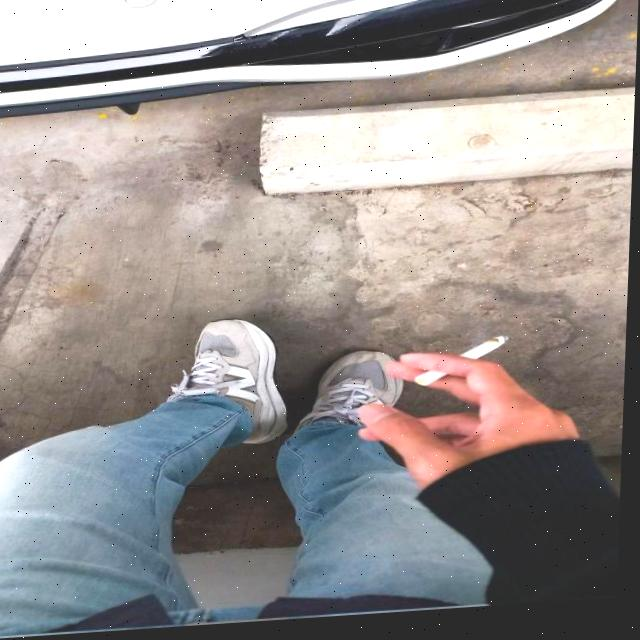cigarette: (418, 341, 513, 393)
